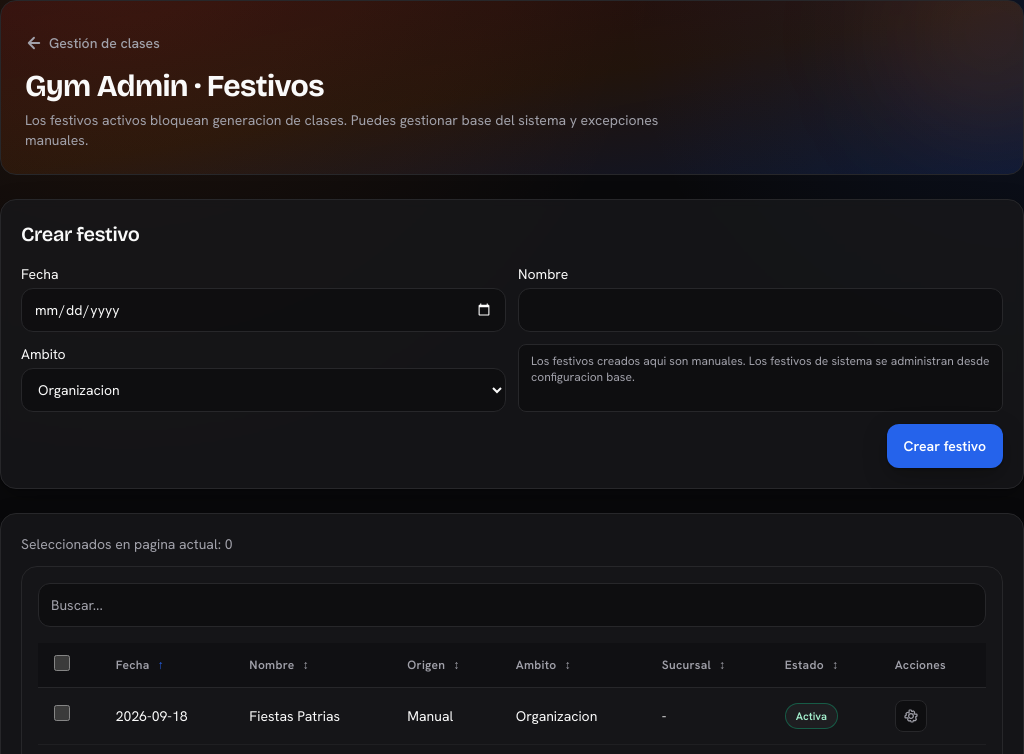
GymAdminHolidaysPage › al editar hace scroll/foco al formulario y Cancelar limpia el estado
Click the button named "abrir acciones". click: (911, 716)
box: [895,700,927,732]
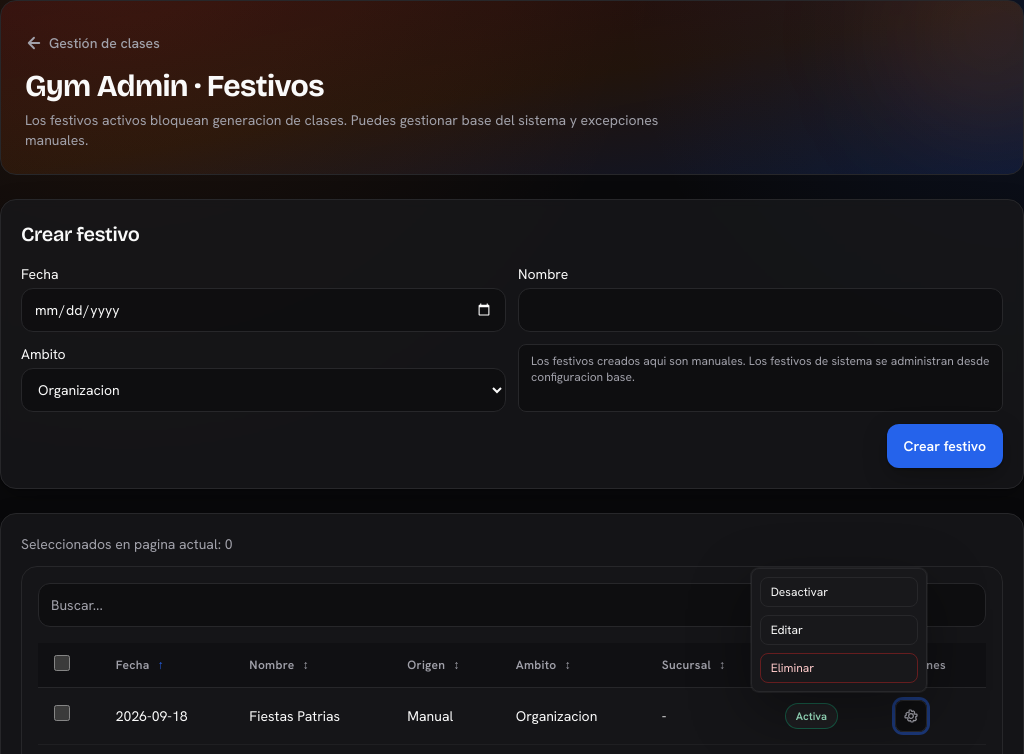
Click the button "Editar". click: (839, 630)
box: [760,615,918,645]
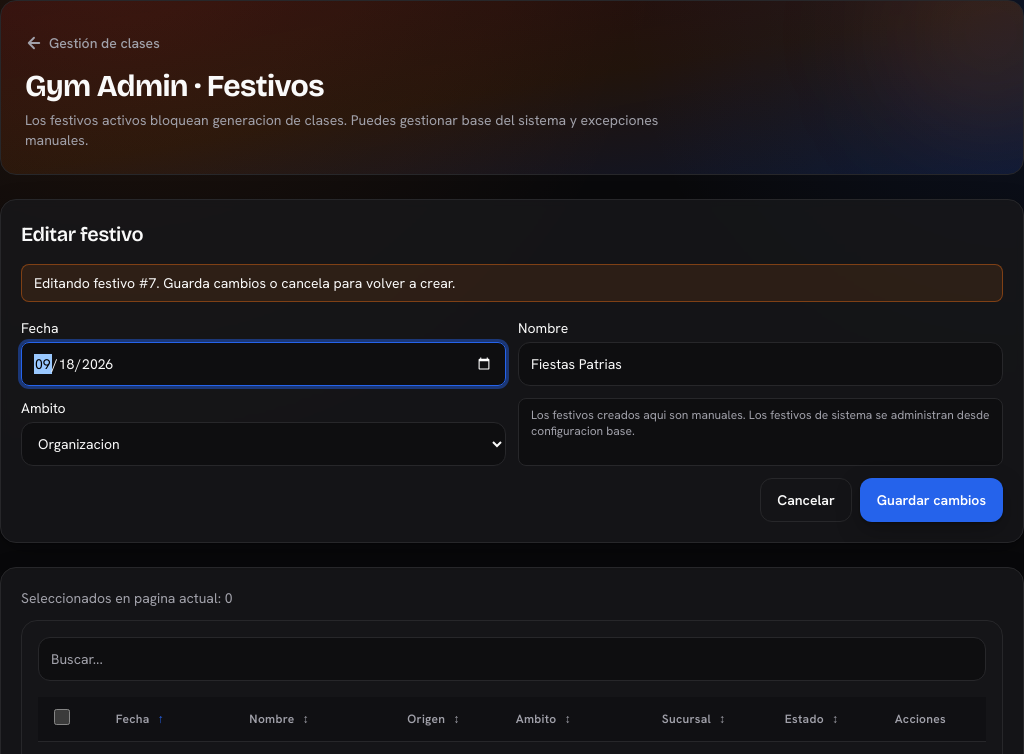
Expected: the text "Editando festivo #7" is shown, [21,264,1003,302]
Click the button "Cancelar". click: (806, 500)
box: [760,478,852,522]
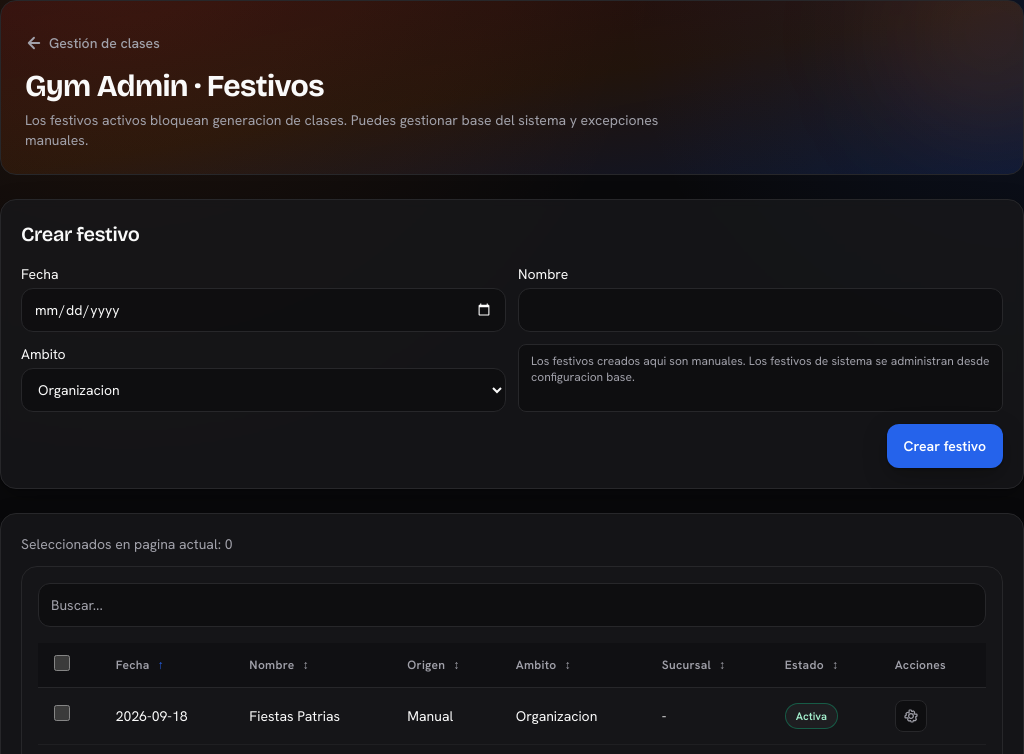
Expected: the heading "Crear festivo" is shown, [21,222,139,246]
Expected: the text "Editando festivo #7" is gone
